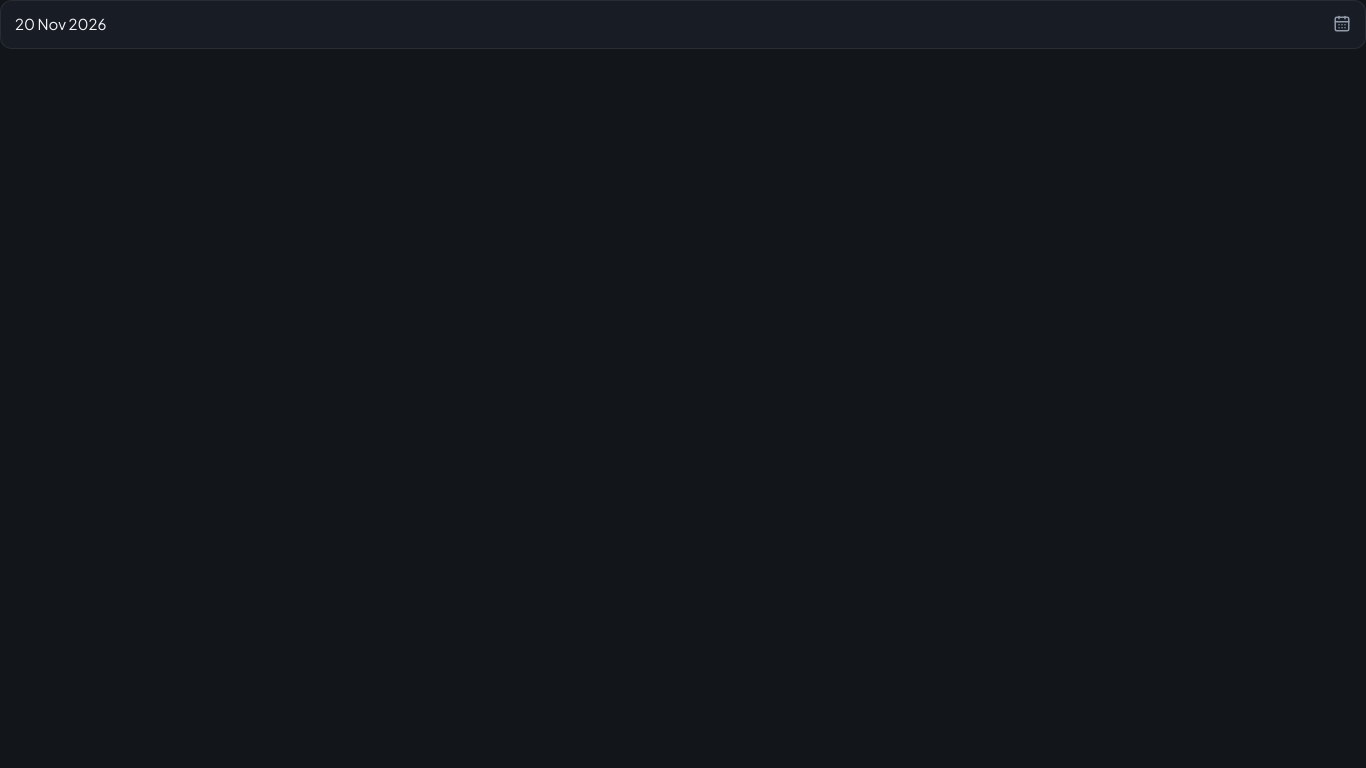
DatePicker on a desktop screen (a calendar under the field) › opens a small calendar, not a sheet, and closes after a pick
Click the button with aria-label "Day".
click(61, 24)  # box 0,0 -> 1365,48
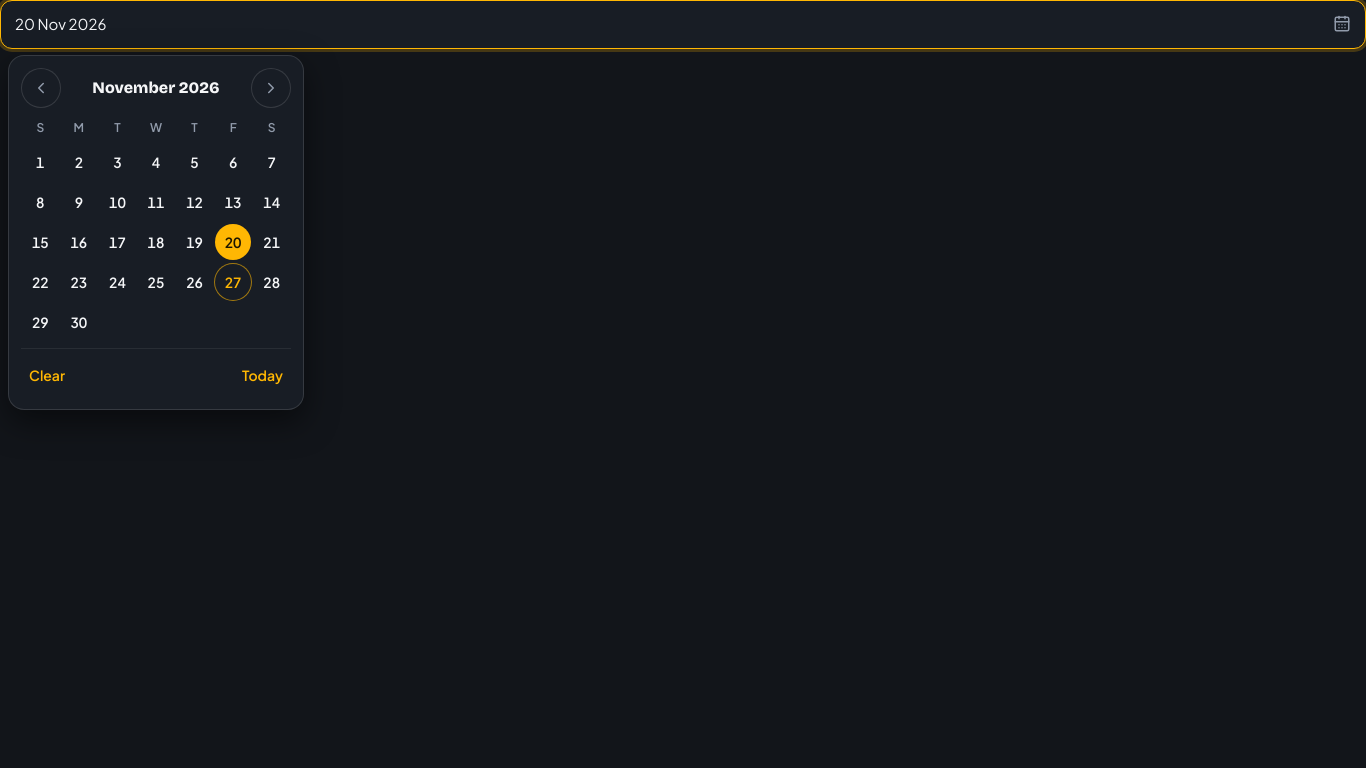
Click the button named "12 November 2026".
click(195, 202)  # box 177,184 -> 213,220
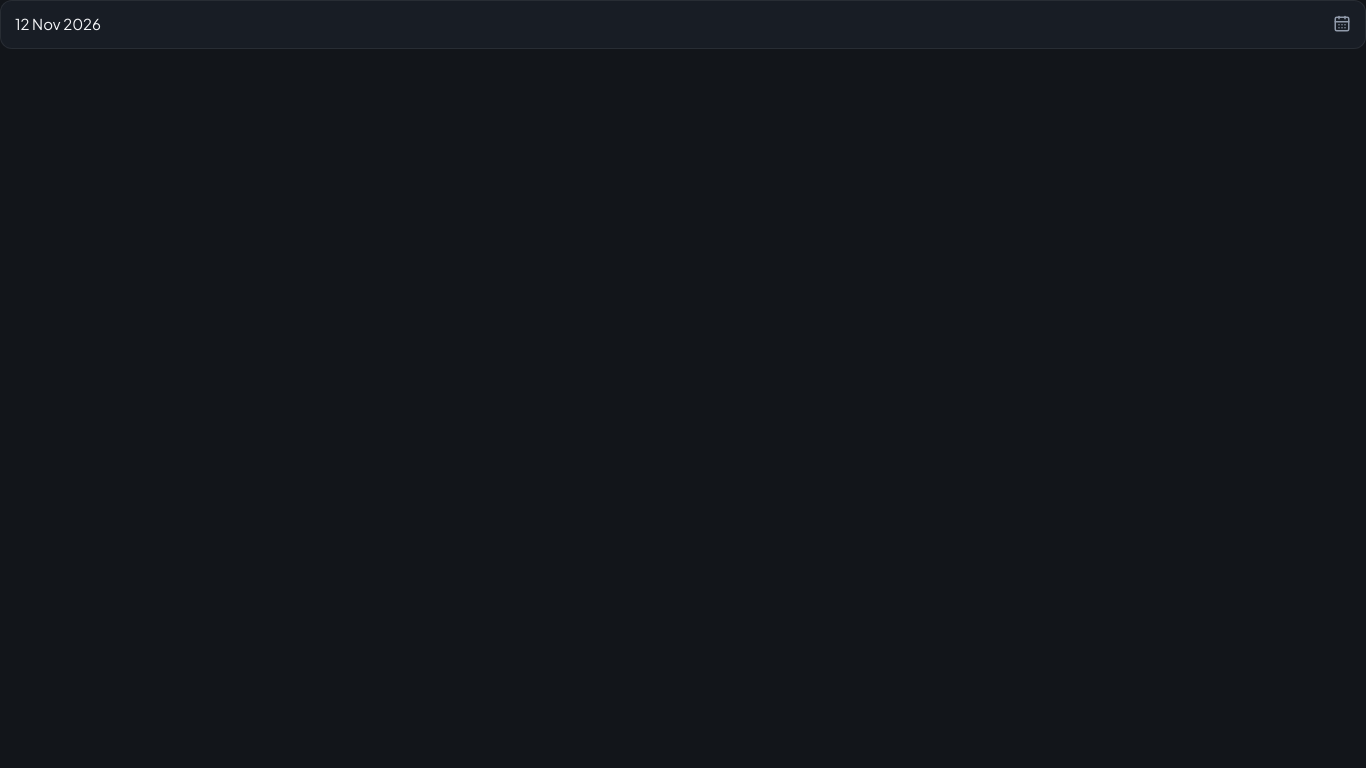
expect the dialog is gone: met
expect the button with aria-label "Day" reads "12 Nov 2026": met, box 0,0 -> 1365,48
